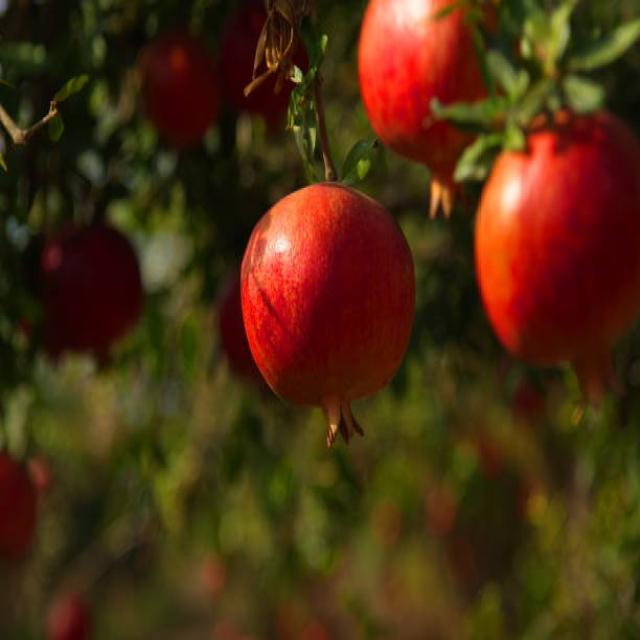Ripe: (473, 109, 640, 405), (240, 177, 418, 448)
